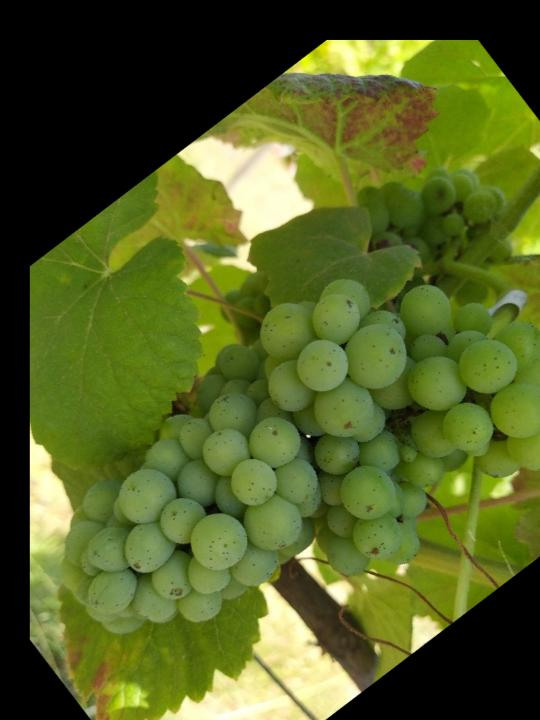grape: (0, 176, 540, 720)
